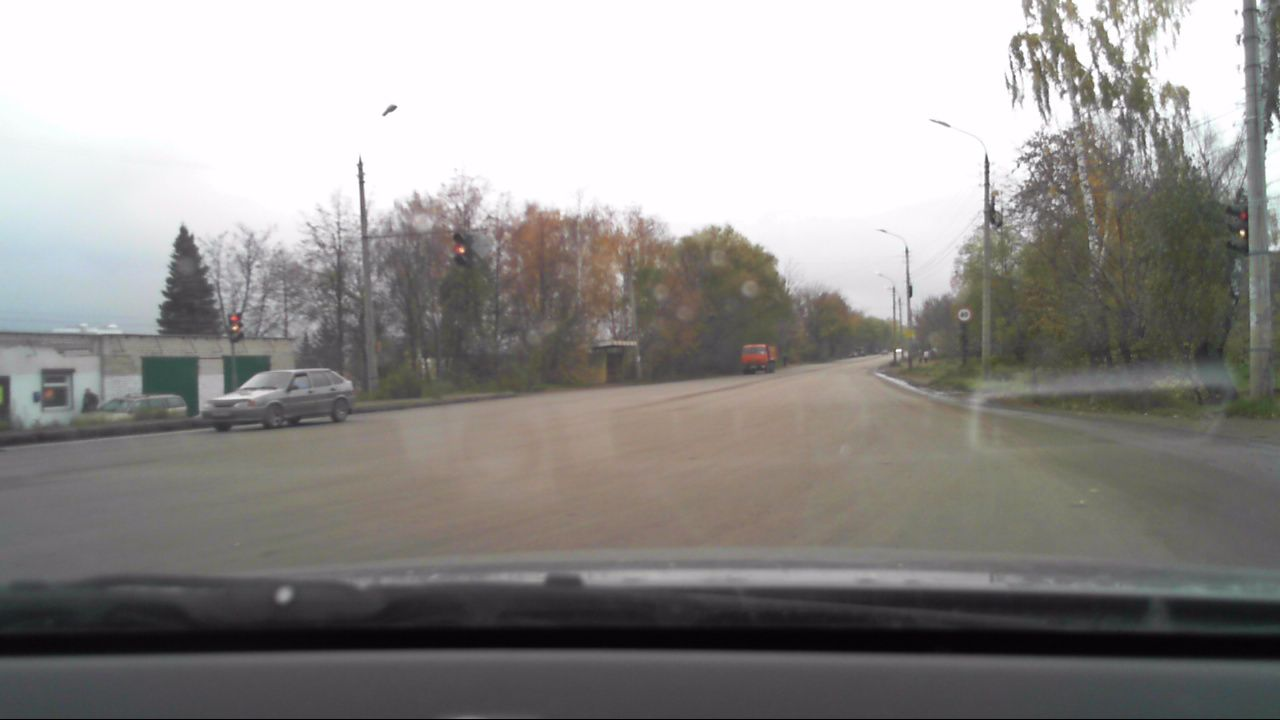speed_warning_40: (955, 305, 973, 322)
